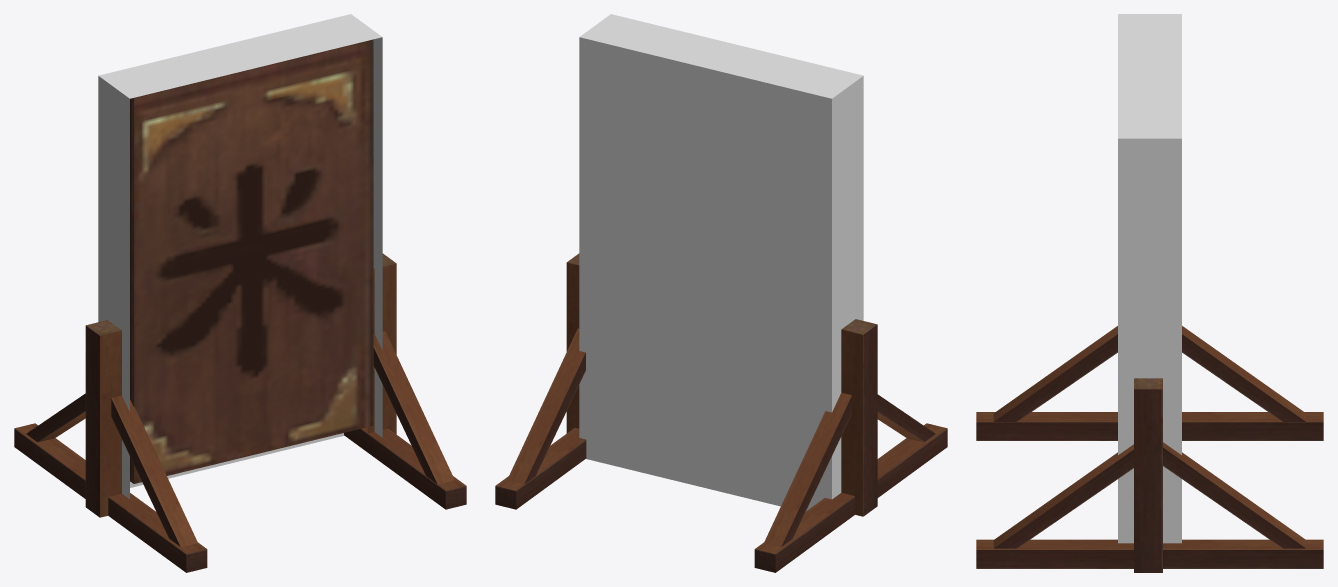
Rendered from YHJ_zhaopai.FBX.
3 renders of one model, left to right at view 1: azimuth 30°, elevation 25°; view 2: azimuth 150°, elevation 25°; view 3: azimuth 270°, elevation 25°, orthographic.
Visible parts, largest first — view 1: YHJ_zhaopai, YHJ_zhaopai-col; view 2: YHJ_zhaopai-col, YHJ_zhaopai; view 3: YHJ_zhaopai, YHJ_zhaopai-col.
Part boxes in pixels (bbox=[...]): YHJ_zhaopai: bbox=[14, 39, 466, 572]; YHJ_zhaopai-col: bbox=[98, 14, 382, 499]; YHJ_zhaopai-col: bbox=[579, 14, 863, 511]; YHJ_zhaopai: bbox=[495, 253, 947, 572]; YHJ_zhaopai: bbox=[976, 326, 1323, 572]; YHJ_zhaopai-col: bbox=[1118, 14, 1181, 543].
Size of the model in its own units: 1.82 by 2.47 by 1.83.
